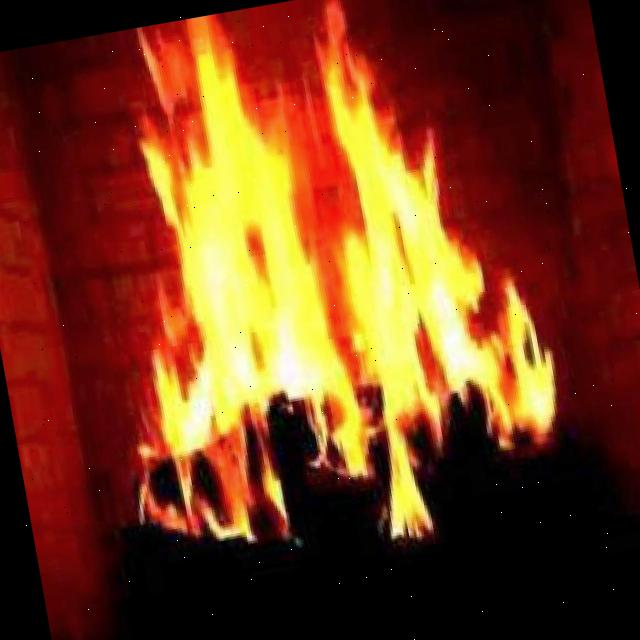fire: (106, 0, 554, 485)
